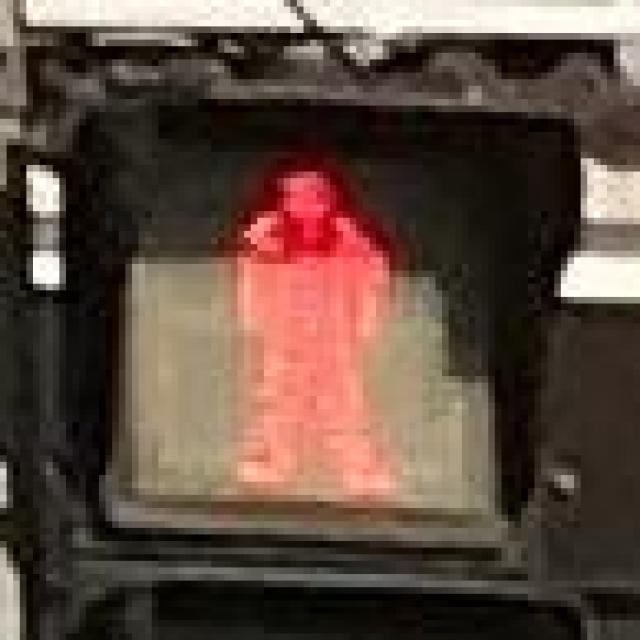red_light: (119, 99, 508, 528)
